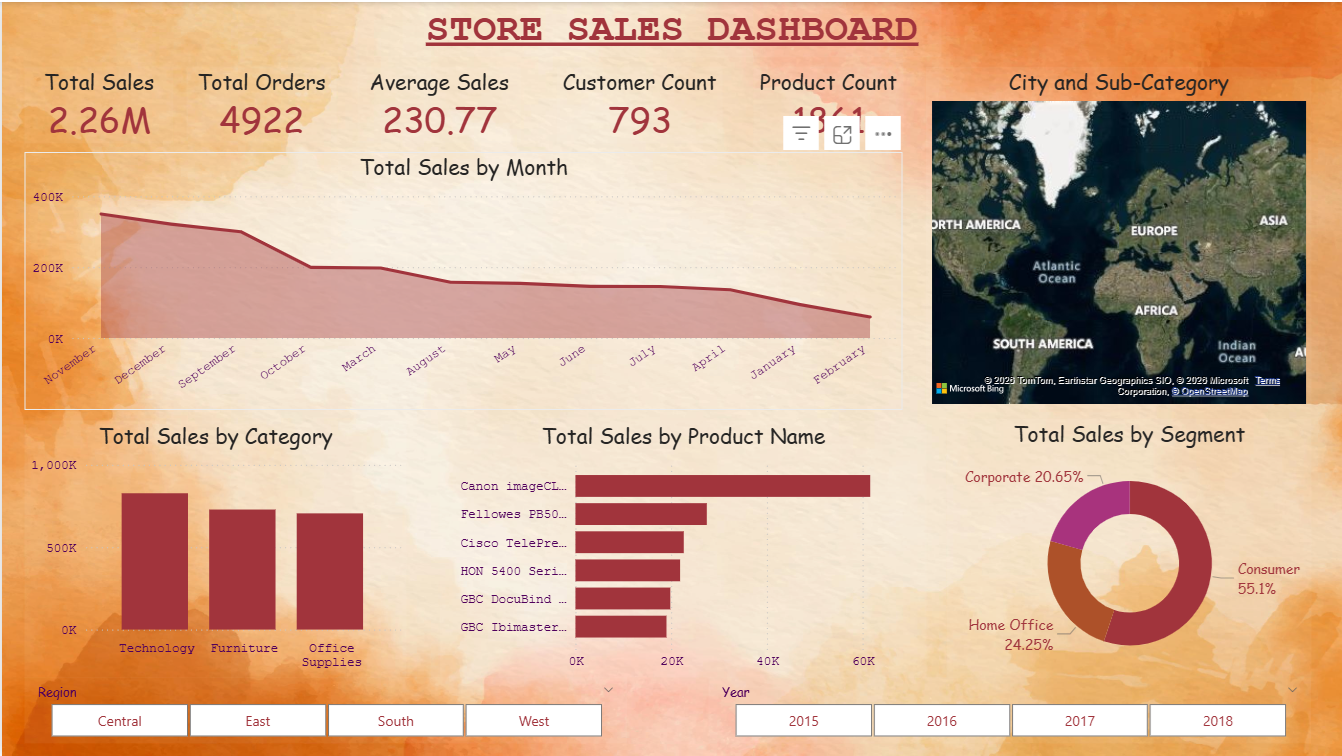

What the dashboard file says about the page in this screenshot:
{"tool":"powerbi","page":{"name":"Page 1","canvas":[1280,720],"ordinal":0},"visuals":[{"type":"card","title":"Total Sales","fields":{"Values":["Fact_Entities_Data.Total Sales"]},"box":[21.6,61.2,142.3,73.3],"z":0},{"type":"card","title":"Total Orders","fields":{"Values":["Fact_Entities_Data.Total Orders"]},"box":[176.8,61.2,143.2,72.5],"z":1000},{"type":"card","title":"Average Sales","fields":{"Values":["Fact_Entities_Data.Average Sales"]},"box":[339.8,62.1,156.1,72.5],"z":2000},{"type":"card","title":"Customer Count","fields":{"Values":["Fact_Entities_Data.Customer Count"]},"box":[530.5,62.1,157.8,73.3],"z":3000},{"type":"card","title":"Product Count","fields":{"Values":["Fact_Entities_Data.Product Count"]},"box":[717.6,62.1,143.2,72.5],"z":4000},{"type":"lineChart","fields":{"Y":["Fact_Entities_Data.Total Sales"],"Category":["Date_Data.Month"]},"box":[21.2,143.8,838.9,245.3],"z":5000},{"type":"columnChart","fields":{"Category":["Product_Data.Category"],"Y":["Fact_Entities_Data.Total Sales"]},"box":[21.2,399.8,364.9,245.3],"z":6000},{"type":"barChart","fields":{"Y":["Fact_Entities_Data.Total Sales"],"Category":["Product_Data.Product Name"]},"box":[417.9,399.8,464.9,245.3],"z":7000},{"type":"donutChart","fields":{"Y":["Fact_Entities_Data.Total Sales"],"Category":["Customer_Data.Segment"]},"box":[902.5,398.2,348.3,246.8],"z":8000},{"type":"filledMap","fields":{"Category":["Fact_Entities_Data.City"],"Series":["Product_Data.Sub-Category"]},"box":[882.4,62.1,368.3,326.9],"z":9000},{"type":"slicer","fields":{"Values":["Fact_Entities_Data.Region"]},"box":[21.2,645.1,575.4,63.6],"z":10000},{"type":"slicer","fields":{"Values":["Date_Data.Year"]},"box":[675.3,645.1,575.4,63.6],"z":11000},{"type":"textbox","box":[382.1,0,514.9,52.6],"z":11001}]}

Visuals, with their boxes in screenshot pixels (x1, y1, x2, y2), scaled from the page's 1280x720 canvas onto the 1342x756 screenshot:
"Total Sales" card: box=[23, 64, 172, 141]
"Total Orders" card: box=[185, 64, 336, 140]
"Average Sales" card: box=[356, 65, 520, 141]
"Customer Count" card: box=[556, 65, 722, 142]
"Product Count" card: box=[752, 65, 902, 141]
lineChart - Fact_Entities_Data.Total Sales x Date_Data.Month: box=[22, 151, 902, 409]
columnChart - Product_Data.Category x Fact_Entities_Data.Total Sales: box=[22, 420, 405, 677]
barChart - Fact_Entities_Data.Total Sales x Product_Data.Product Name: box=[438, 420, 926, 677]
donutChart - Fact_Entities_Data.Total Sales x Customer_Data.Segment: box=[946, 418, 1311, 677]
filledMap - Fact_Entities_Data.City x Product_Data.Sub-Category: box=[925, 65, 1311, 408]
slicer - Fact_Entities_Data.Region: box=[22, 677, 625, 744]
slicer - Date_Data.Year: box=[708, 677, 1311, 744]
textbox: box=[401, 0, 940, 55]
